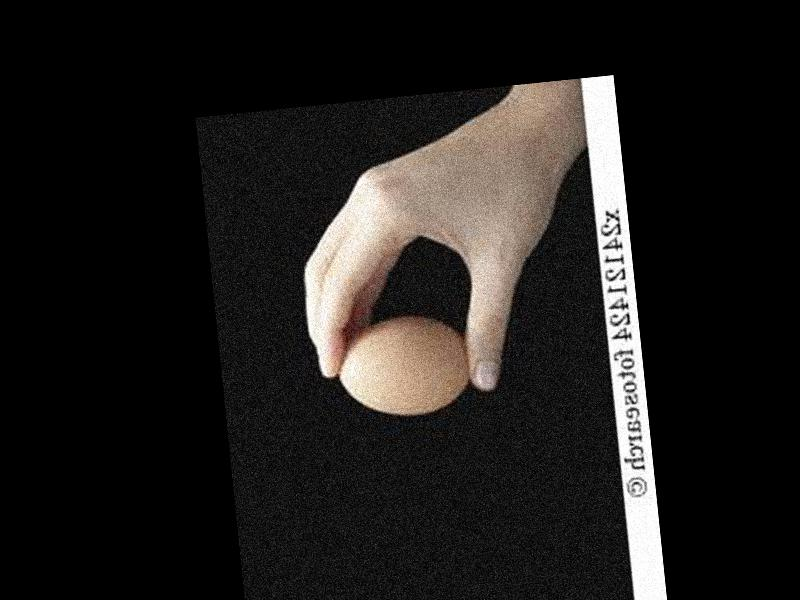Eggs: (330, 311, 473, 421)
